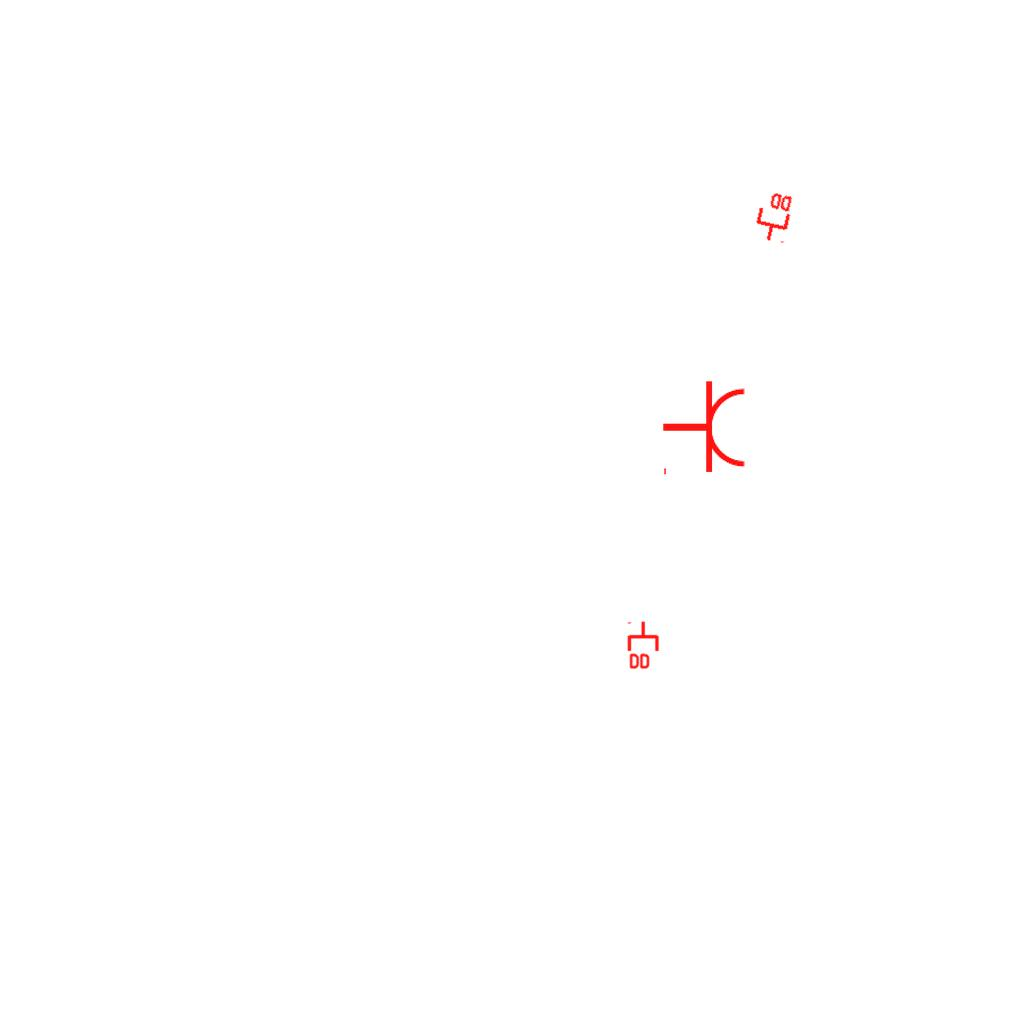Datenanschluss_zweifach: (750, 187, 796, 246), (627, 620, 661, 671)
Schukosteckdose_einfach: (661, 379, 748, 479)
